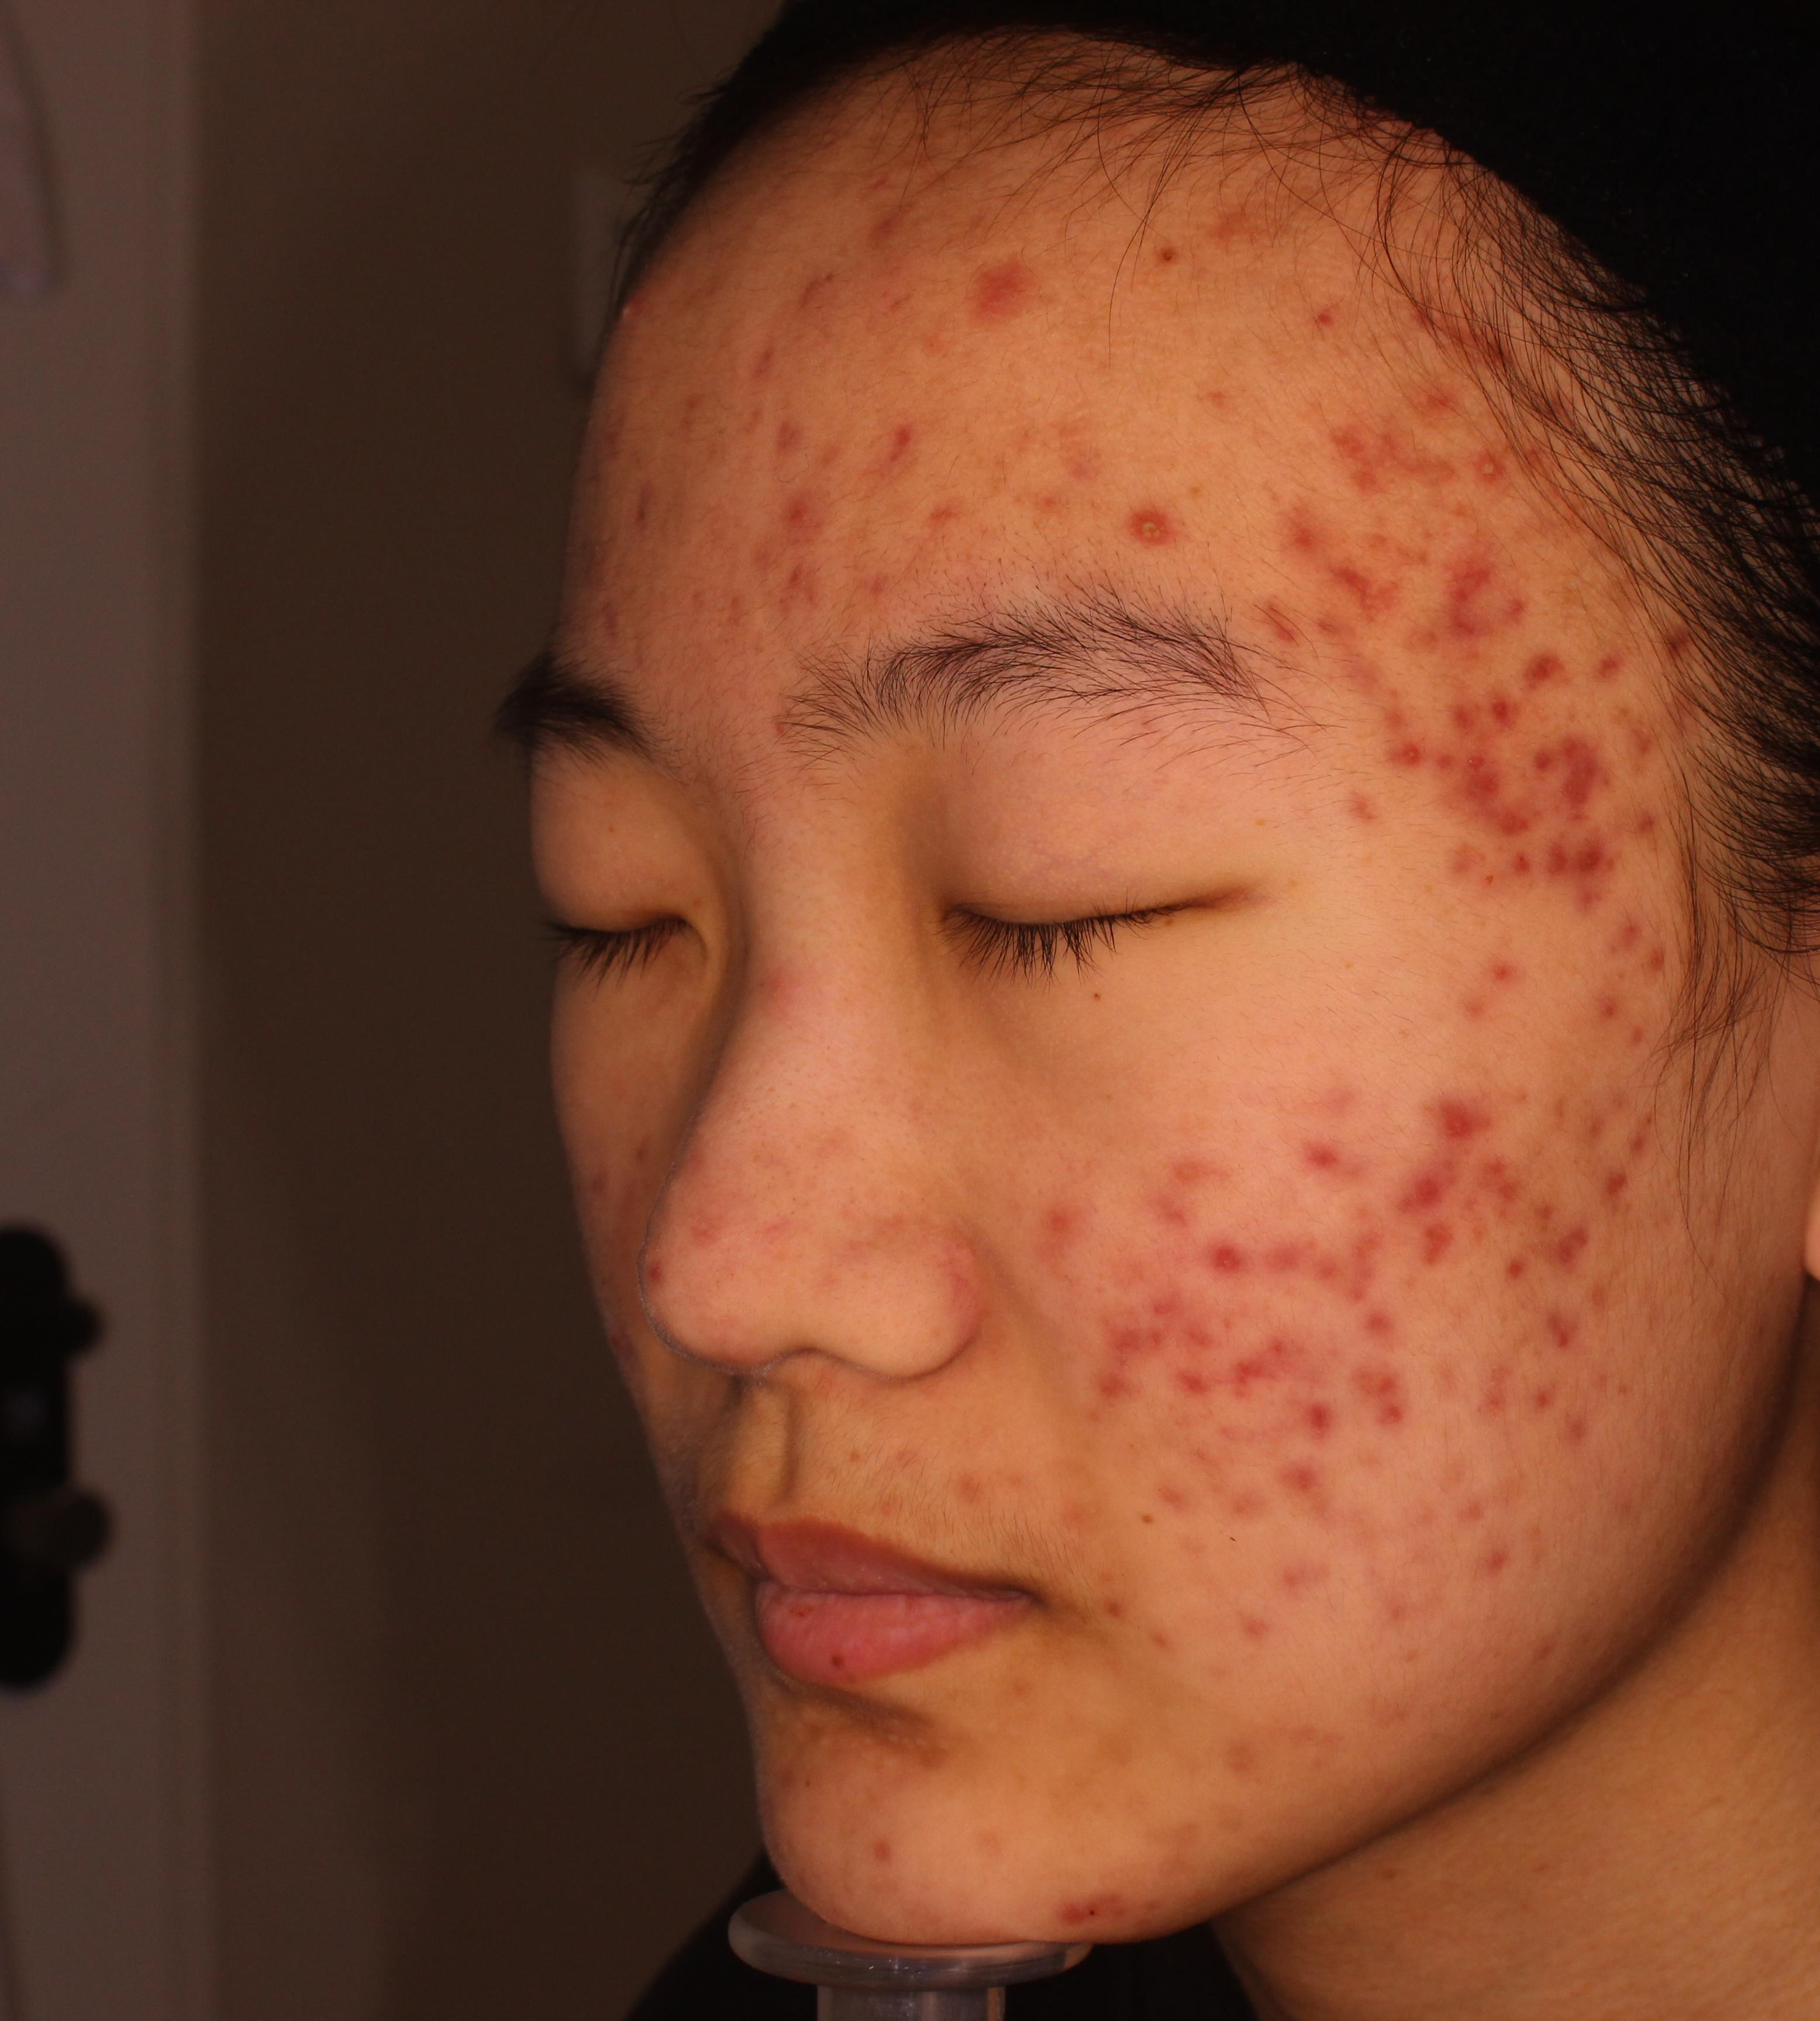fore: (696, 365, 880, 492), (1588, 957, 1744, 1083), (1556, 815, 1672, 967), (1323, 1326, 1462, 1436), (1470, 613, 1600, 729), (1476, 1110, 1583, 1240), (921, 232, 1031, 356), (539, 469, 710, 550), (1036, 1845, 1149, 1967), (1453, 917, 1551, 1052), (1511, 1277, 1646, 1375), (1499, 685, 1614, 792), (1112, 486, 1239, 581), (1369, 1196, 1458, 1326), (1274, 1352, 1369, 1473), (1268, 1115, 1381, 1217), (1219, 590, 1337, 685), (1152, 1440, 1272, 1533), (1426, 662, 1530, 769), (1175, 1190, 1268, 1306), (1562, 1069, 1655, 1185), (1453, 393, 1551, 500), (1279, 1185, 1386, 1277), (1021, 1196, 1128, 1287), (745, 532, 840, 630), (1449, 734, 1539, 838), (1467, 1303, 1534, 1442), (1484, 1150, 1556, 1277), (1256, 465, 1337, 576), (1305, 393, 1400, 483), (1377, 385, 1453, 495), (722, 483, 826, 558), (1395, 527, 1481, 616), (1484, 815, 1571, 904), (912, 492, 1003, 574), (1202, 1320, 1291, 1401), (1319, 773, 1412, 850), (863, 1710, 963, 1780), (740, 962, 827, 1041), (1126, 1312, 1193, 1415), (1409, 1055, 1484, 1145), (1073, 1338, 1142, 1433), (1196, 193, 1284, 267), (1453, 590, 1571, 644), (669, 1180, 747, 1262), (1430, 1477, 1513, 1545), (1588, 1154, 1651, 1240), (1268, 1545, 1342, 1617), (762, 1682, 838, 1752), (861, 1824, 928, 1903), (1300, 550, 1372, 622), (1363, 734, 1467, 783), (780, 260, 854, 328), (1226, 1593, 1296, 1659), (1426, 832, 1497, 897), (766, 695, 822, 774), (625, 1240, 696, 1301), (1369, 1150, 1426, 1222), (1318, 1061, 1372, 1136), (1644, 615, 1706, 681), (866, 425, 956, 469), (1551, 1401, 1609, 1466), (1296, 288, 1363, 341), (1470, 1531, 1521, 1593), (606, 293, 655, 335)
